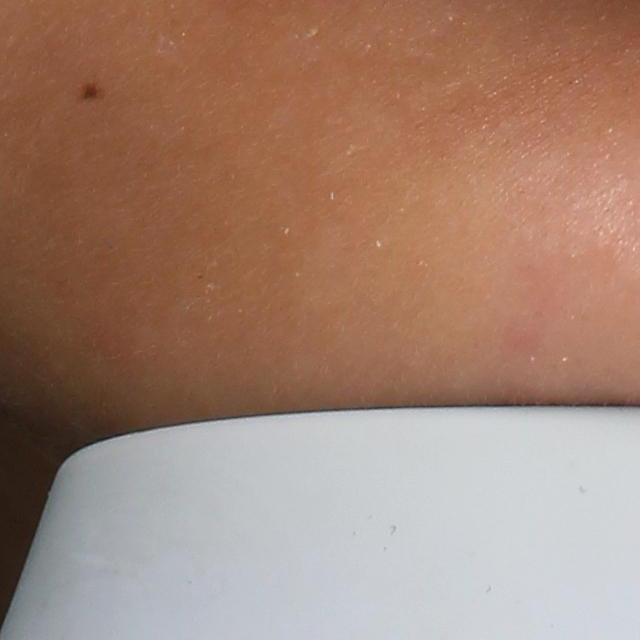nevus: (78, 71, 105, 104)
